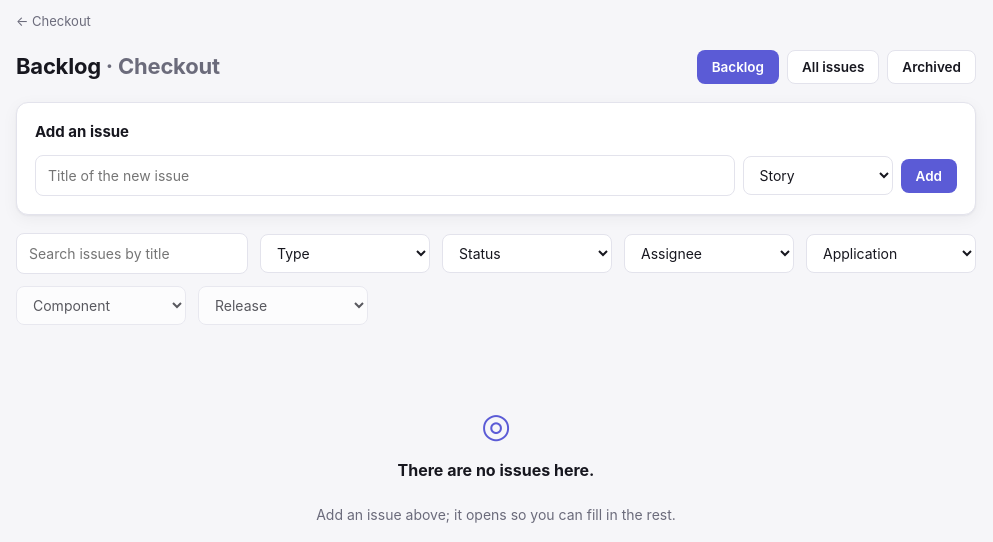
Test: the backlog: the list › shows empty states, with a hint only to those who may add
Expected: the text "There are no issues here." is shown, [398, 458, 594, 482]
Expected: the text "Add an issue above; it opens so you can fill in the rest." is shown, [316, 504, 676, 525]
Click the button "Archived" at (932, 66), box [887, 50, 976, 84]
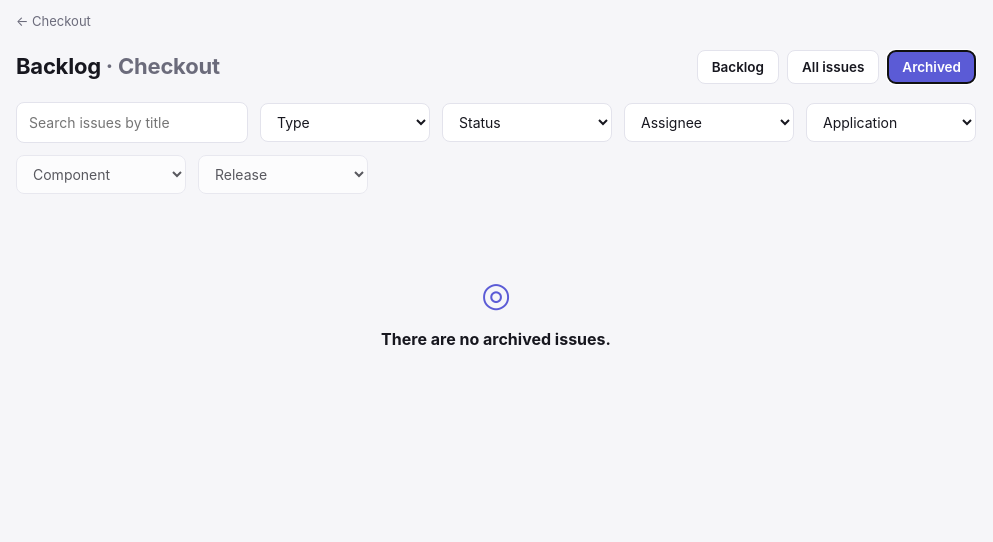
Result: the text "There are no archived issues." is shown at [381, 326, 611, 350]
